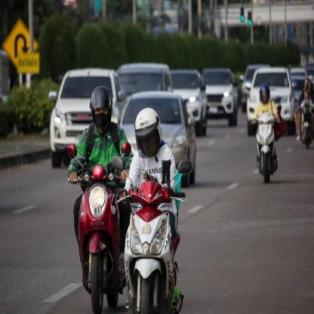Motocicleta: (117, 171, 180, 314), (68, 152, 122, 313)
